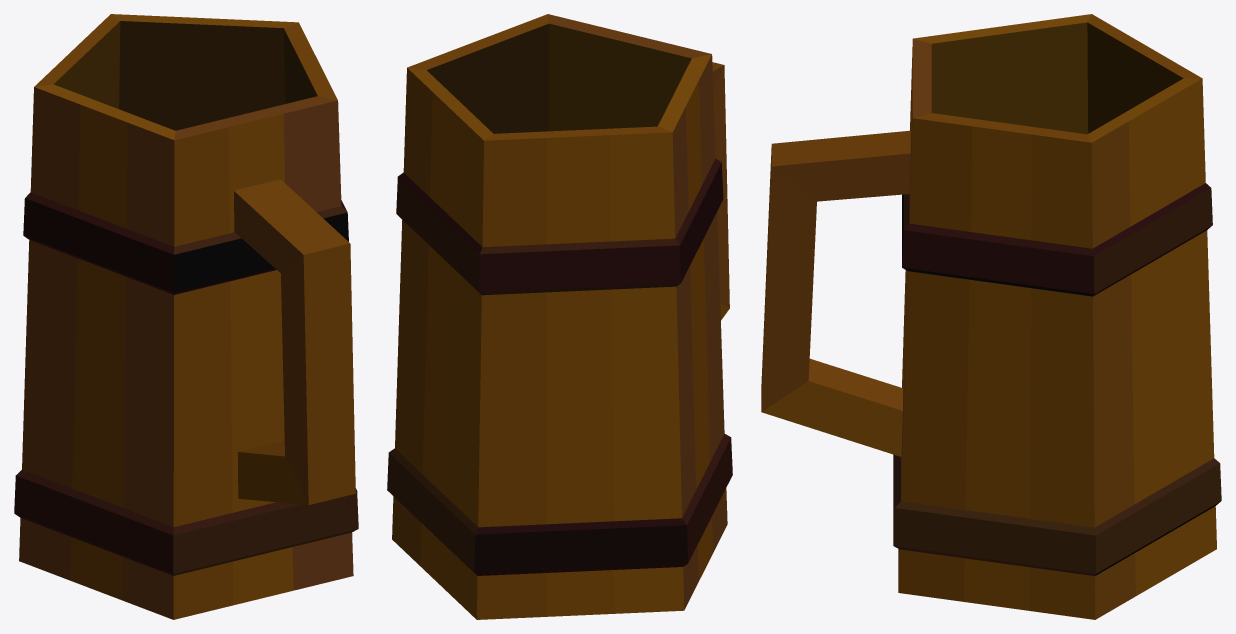
Rendered from WoodenTankardEmpty.glb.
3 renders of one model, left to right at view 1: azimuth 30°, elevation 25°; view 2: azimuth 150°, elevation 25°; view 3: azimuth 270°, elevation 25°, orthographic.
Parts seen in each view (by area): view 1: WoodenTankardEmpty; view 2: WoodenTankardEmpty; view 3: WoodenTankardEmpty.
Part boxes in pixels (x1,y1,x2,y2): WoodenTankardEmpty: (14,14,358,619); WoodenTankardEmpty: (387,14,732,619); WoodenTankardEmpty: (761,14,1221,619).
Size of the model in its own units: 0.1695 by 0.255 by 0.226.
